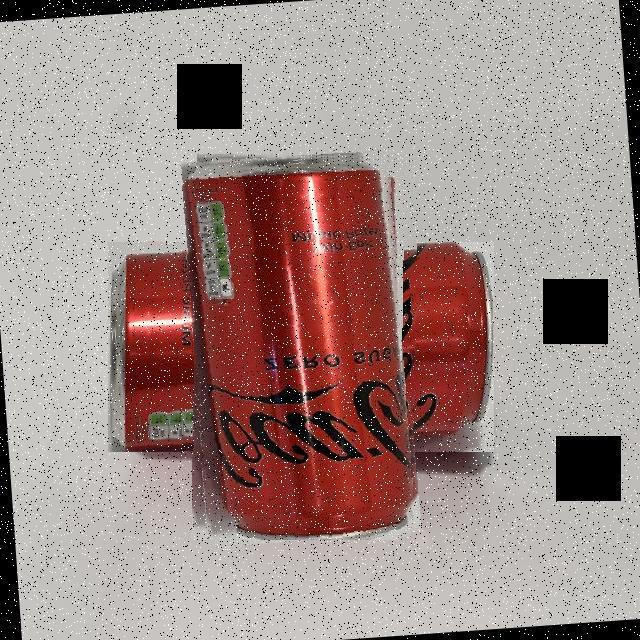recyclable: (182, 156, 415, 540)
